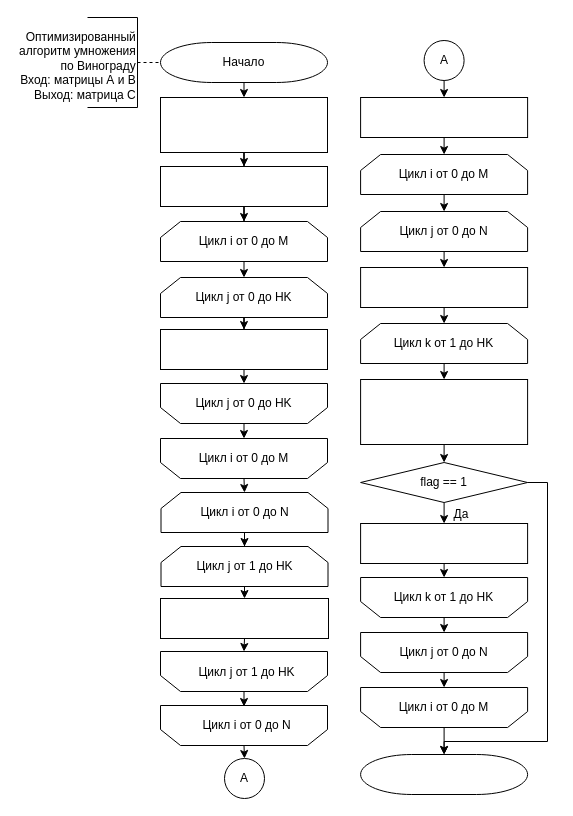
Image size: 573x816. Some labels were removed from this diagram. Here are the shapes that lost their labels. From the top down, the centre of each, then its label:
the point at 244,124: K = кол-во столбцов A M = кол-во строк А N = кол-во столбцов B HK = K >> 1
the point at 444,117: flag = остаток от деления K на 2
the point at 244,186: Создание массивов factorA длиной M и factorB длиной N
the point at 444,287: C[i][j] -= (factorA[i] + factorB[j])
the point at 244,349: factor A[i] += A[i][j << 1] + A[i][j << 1 + 1]
the point at 444,411: C[i][j] += (A[i][k << 1] + B[2 << 1 + 1][j]) * (A[i][k << 1 + 1] + B[k << 1][j])
the point at 444,543: C[i][j] += A[i][K - 1] * B[K- 1][j]
the point at 244,618: factorB]i] += B[i][j << 1] + B[i][j << 1 + 1]
the point at 444,774: Конец
